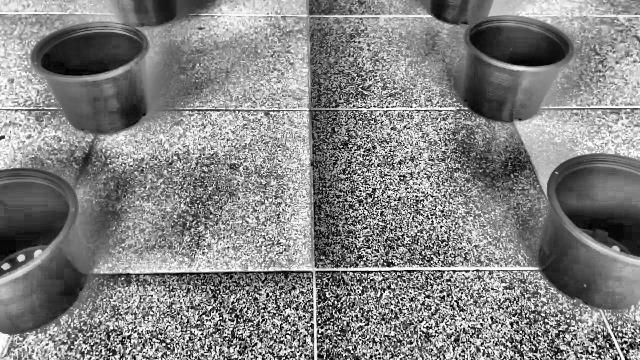pot: (540, 154, 640, 310), (0, 170, 90, 337), (30, 22, 152, 136), (462, 16, 575, 122)
